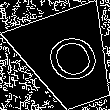O_S: (34, 28, 103, 91)
